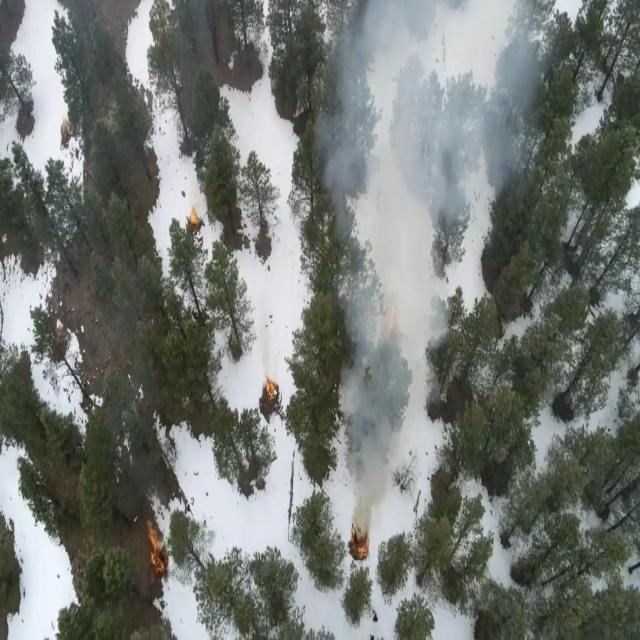Fire: (349, 523, 376, 559), (263, 376, 280, 403)
Smoke: (320, 1, 450, 517), (312, 0, 559, 203)
